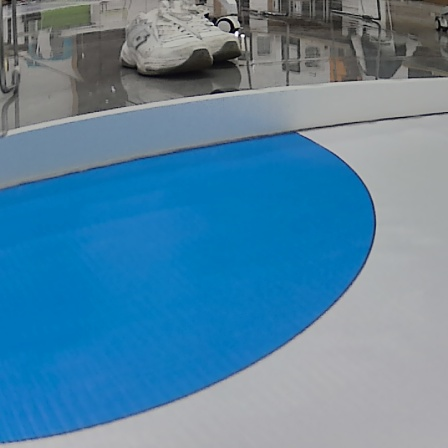blue_base: (1, 132, 379, 445)
